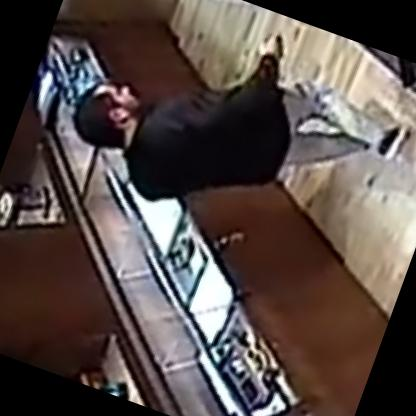Human Body: (44, 0, 415, 291)
